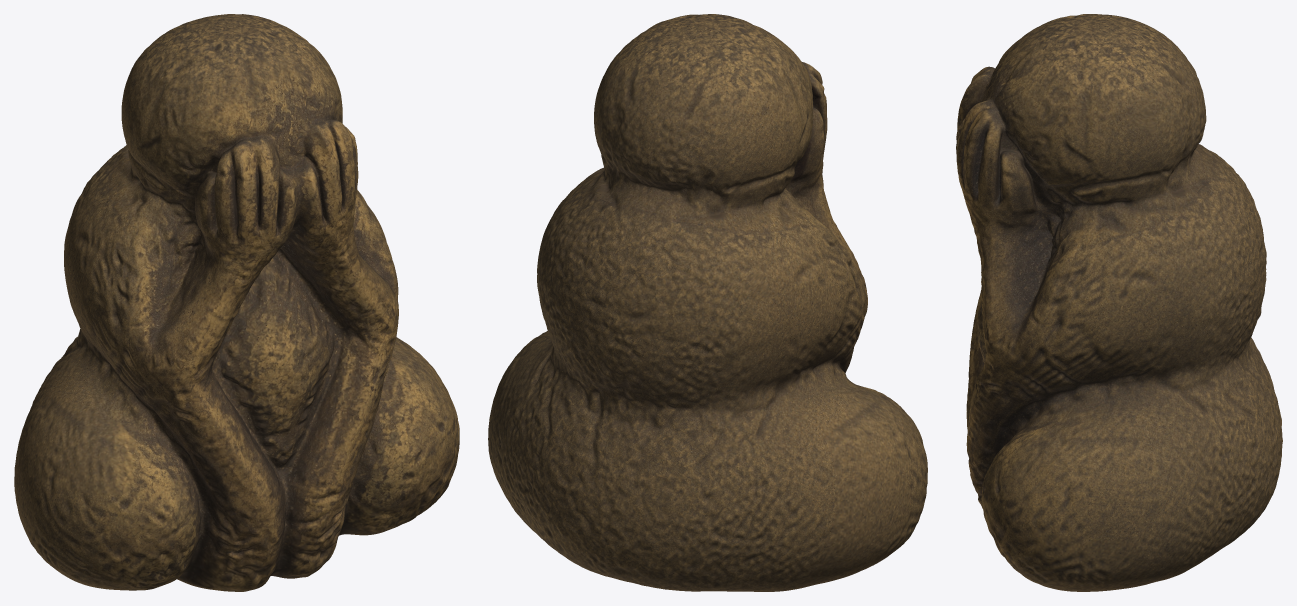
Rendered from original-pidta.glb.
The picture shows the model from 3 angles, left to right: view 1: azimuth 30°, elevation 25°; view 2: azimuth 150°, elevation 25°; view 3: azimuth 270°, elevation 25°; orthographic projection. The views are drawn at different scales.
Parts seen in each view (by area): view 1: Mesh_0; view 2: Mesh_0; view 3: Mesh_0.
Boxes of the visible parts, bbox=[...] form: Mesh_0: bbox=[14, 14, 459, 591]; Mesh_0: bbox=[488, 14, 927, 591]; Mesh_0: bbox=[956, 14, 1282, 591].
Bounding box in the file's own units: 1.53 × 1.9 × 1.11.
Materials: 1 (1 with a texture image).
